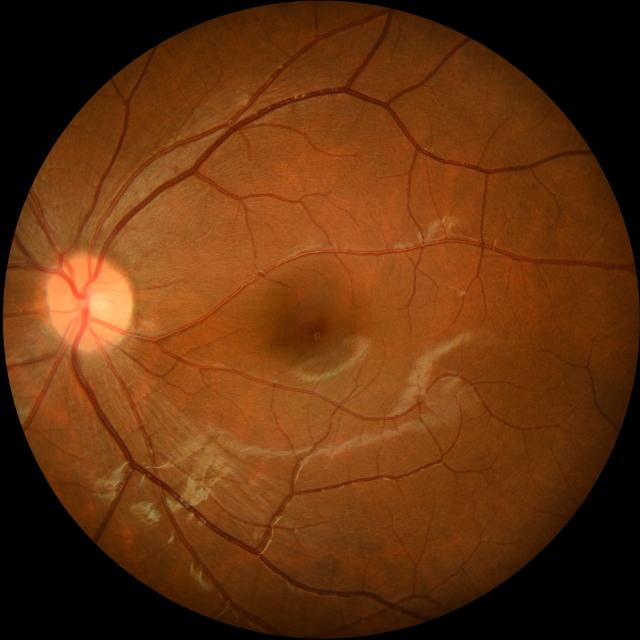OC: (77, 282, 110, 319)
OD: (45, 255, 131, 352)
